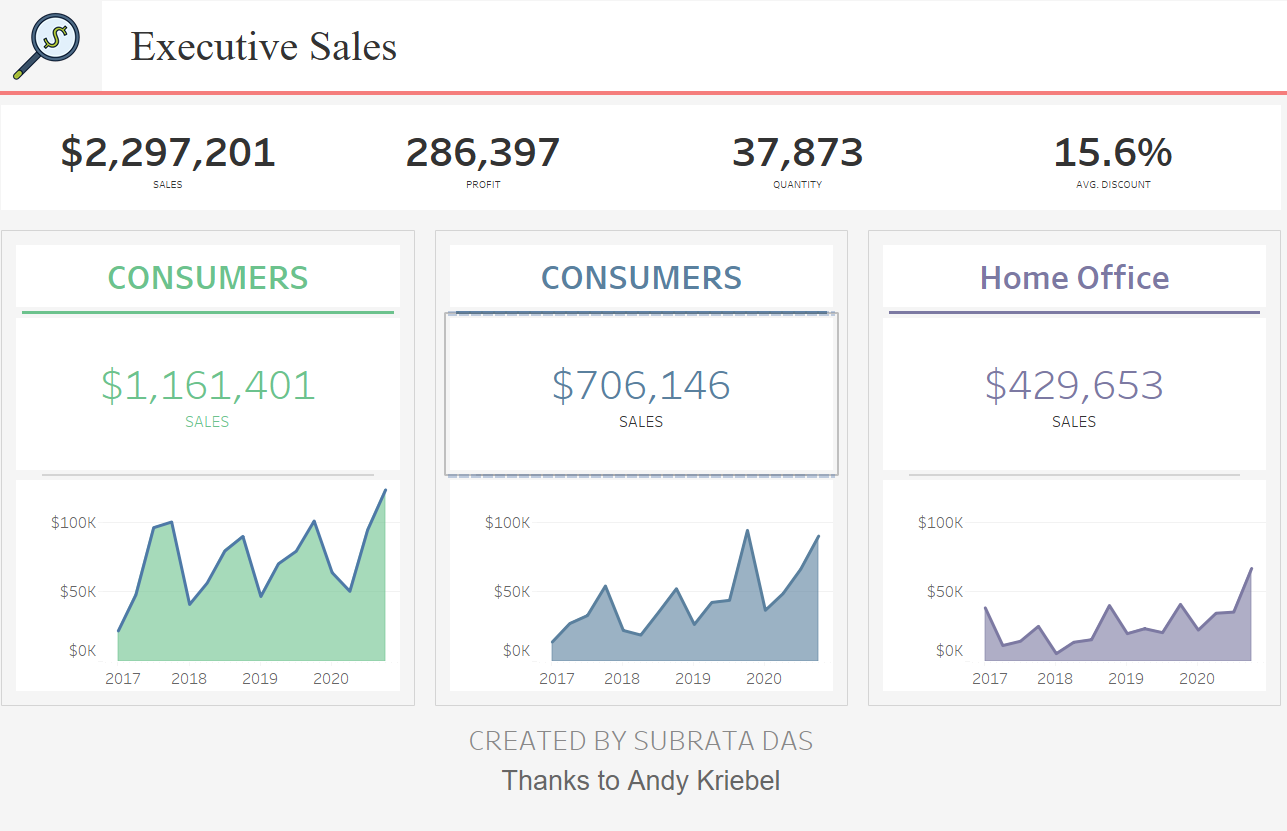

The page's visual inventory and layout, read from the dashboard file:
{"tool":"tableau","page":{"name":"Dashboard 1","canvas":[1300,800],"ordinal":0},"visuals":[{"type":"image","param":"D:/Excel_projects/graphicsurf-com-452186-finance-free-vector-icon-set/PNG/financ","box":[0,0,111,90]},{"type":"text","box":[111,0,1189,90]},{"type":"blank","box":[0,90,1300,4]},{"type":"worksheet","title":"KPIS","mark":"Automatic","box":[0,94,1300,125]},{"type":"text","box":[21,240,392,70]},{"type":"text","box":[455,240,391,70]},{"type":"text","box":[888,240,391,70]},{"type":"blank","box":[21,310,392,3]},{"type":"blank","box":[455,310,391,3]},{"type":"blank","box":[888,310,391,3]},{"type":"worksheet","title":"Consumer Sales","mark":"Automatic","box":[21,313,392,160]},{"type":"worksheet","title":"Corporate Sales ","mark":"Automatic","box":[455,313,391,160]},{"type":"worksheet","title":"Home Office Sales","mark":"Automatic","box":[888,313,391,160]},{"type":"blank","box":[21,473,392,2]},{"type":"blank","box":[455,473,391,2]},{"type":"blank","box":[888,473,391,2]},{"type":"worksheet","title":"Consumer Sales by Qurter","mark":"Automatic","rows":["Sales","Sales"],"cols":["Order Date"],"box":[21,475,392,219]},{"type":"worksheet","title":"Corporate Sales by Qurter","mark":"Automatic","rows":["Sales","Sales"],"cols":["Order Date"],"box":[455,475,391,219]},{"type":"worksheet","title":"Home Office Sales by Qurter","mark":"Automatic","rows":["Sales","Sales"],"cols":["Order Date"],"box":[888,475,391,219]},{"type":"text","box":[0,715,1300,46]},{"type":"text","box":[0,761,1300,39]}]}

Visuals, with their boxes on the page's 1300x800 design canvas (x1, y1, x2, y2). These are canvas units, not pixel positions in the 1287x831 screenshot, which may show the page scaled, cropped or inside an application window:
image: x1=0, y1=0, x2=111, y2=90
text: x1=111, y1=0, x2=1300, y2=90
blank: x1=0, y1=90, x2=1300, y2=94
"KPIS" worksheet: x1=0, y1=94, x2=1300, y2=219
text: x1=21, y1=240, x2=413, y2=310
text: x1=455, y1=240, x2=846, y2=310
text: x1=888, y1=240, x2=1279, y2=310
blank: x1=21, y1=310, x2=413, y2=313
blank: x1=455, y1=310, x2=846, y2=313
blank: x1=888, y1=310, x2=1279, y2=313
"Consumer Sales" worksheet: x1=21, y1=313, x2=413, y2=473
"Corporate Sales " worksheet: x1=455, y1=313, x2=846, y2=473
"Home Office Sales" worksheet: x1=888, y1=313, x2=1279, y2=473
blank: x1=21, y1=473, x2=413, y2=475
blank: x1=455, y1=473, x2=846, y2=475
blank: x1=888, y1=473, x2=1279, y2=475
"Consumer Sales by Qurter" worksheet: x1=21, y1=475, x2=413, y2=694
"Corporate Sales by Qurter" worksheet: x1=455, y1=475, x2=846, y2=694
"Home Office Sales by Qurter" worksheet: x1=888, y1=475, x2=1279, y2=694
text: x1=0, y1=715, x2=1300, y2=761
text: x1=0, y1=761, x2=1300, y2=800
